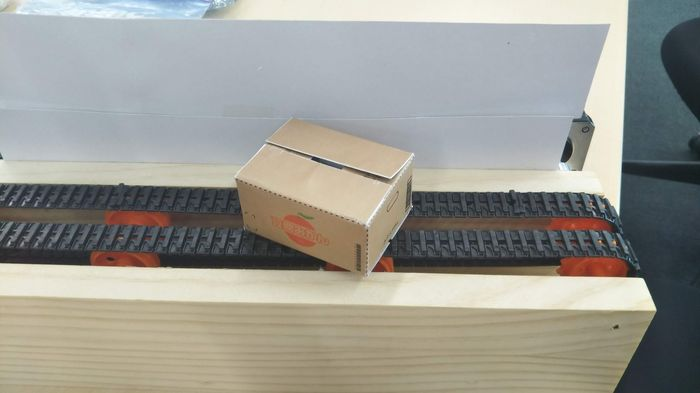box1: (231, 110, 422, 280)
